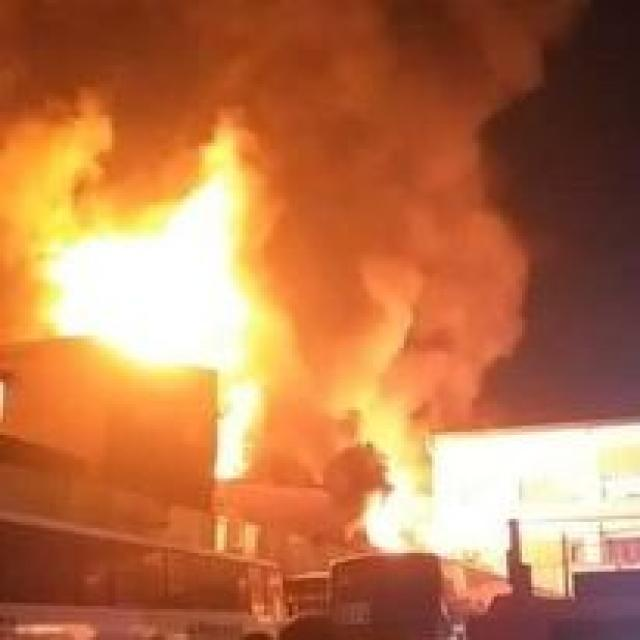Fire: (67, 142, 290, 361), (222, 374, 260, 474)
Smoke: (0, 0, 584, 367), (301, 270, 434, 520)
